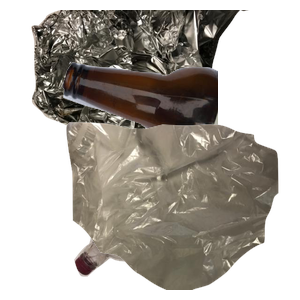glass: (60, 59, 300, 217)
metal: (29, 10, 269, 190)
plastic: (72, 142, 273, 300)
trash: (64, 120, 300, 300)
